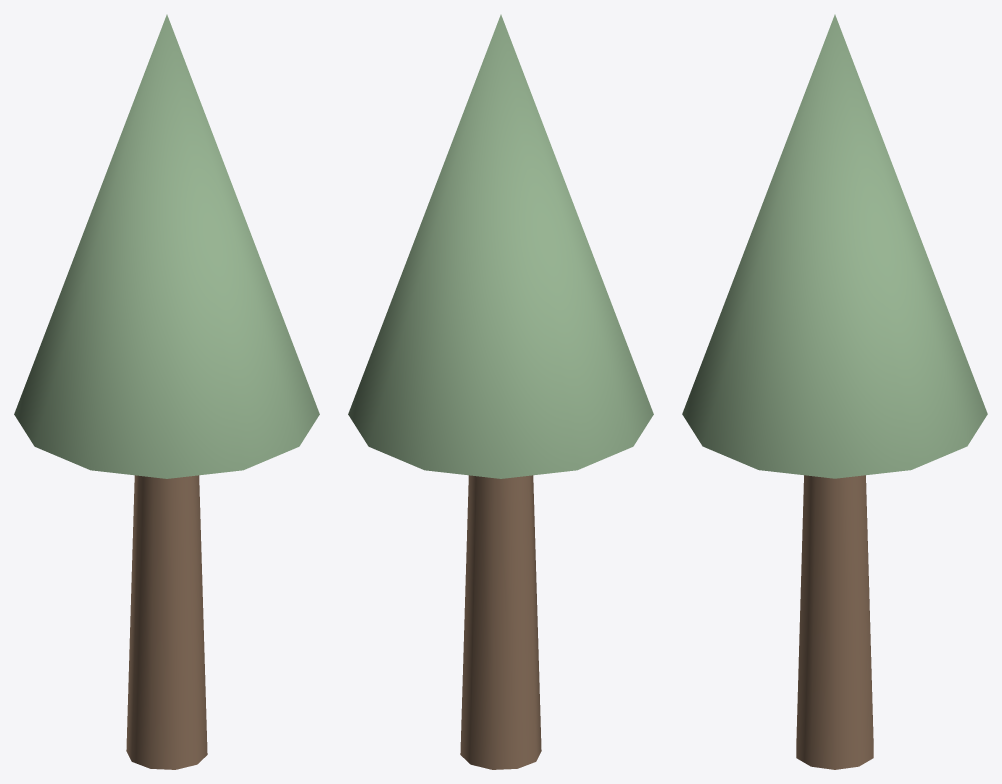
File: cypress.glb
3 views of the same model, side by side, from view 1: azimuth 30°, elevation 25°; view 2: azimuth 150°, elevation 25°; view 3: azimuth 270°, elevation 25° (orthographic).
Visible parts, largest first — view 1: CypressLeaves, CypressTrunk; view 2: CypressLeaves, CypressTrunk; view 3: CypressLeaves, CypressTrunk.
Boxes of the visible parts, x1,y1,x2,y2 form: CypressLeaves: (14,14,319,478); CypressTrunk: (126,475,207,769); CypressLeaves: (348,14,653,478); CypressTrunk: (460,475,541,769); CypressLeaves: (682,14,987,478); CypressTrunk: (796,475,873,769).
Bounding box in the file's own units: 1.8 × 4.8 × 1.8.
